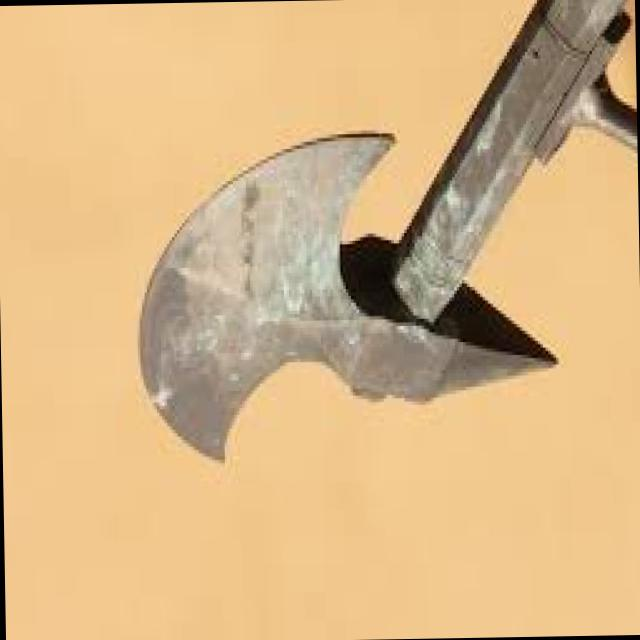Gun: (136, 0, 640, 516)
